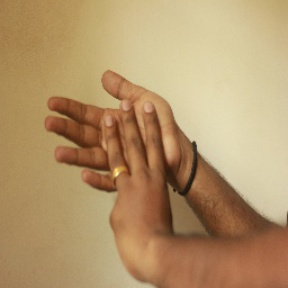M: (41, 66, 193, 252)
